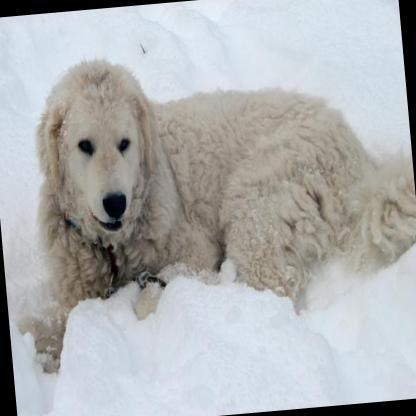kuvasz: (0, 29, 416, 373)
